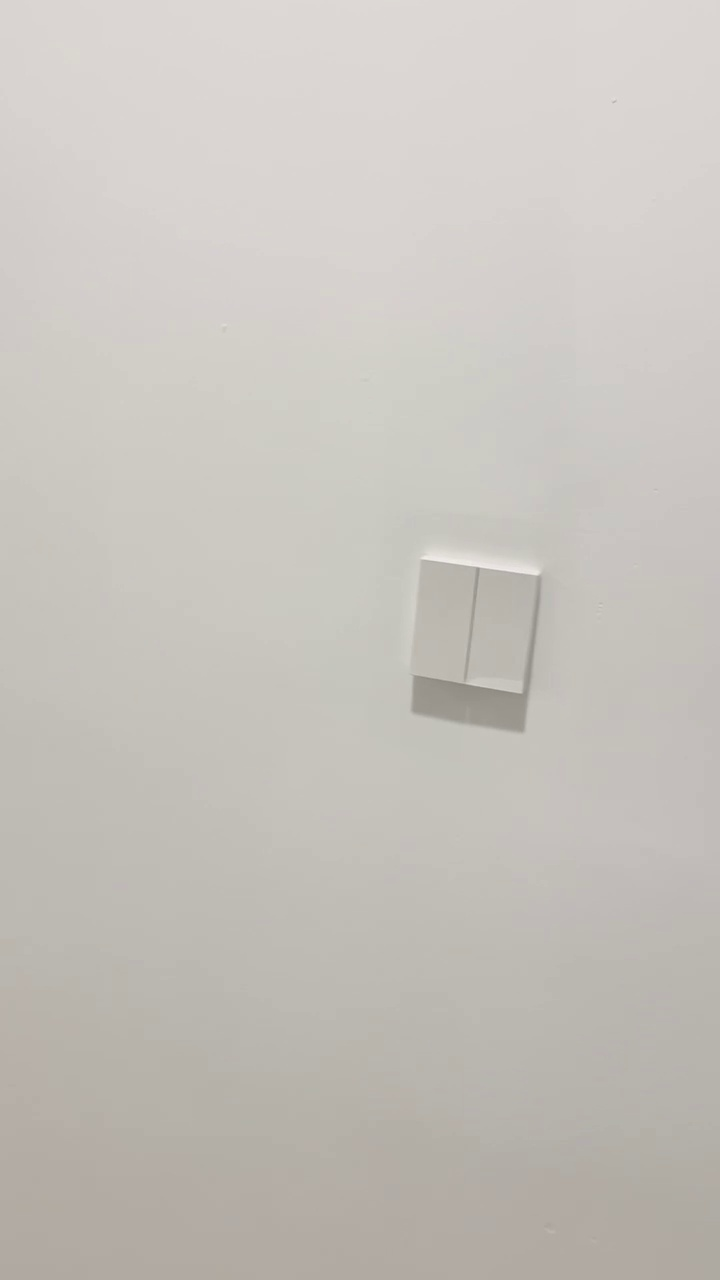button: (410, 552, 546, 693)
